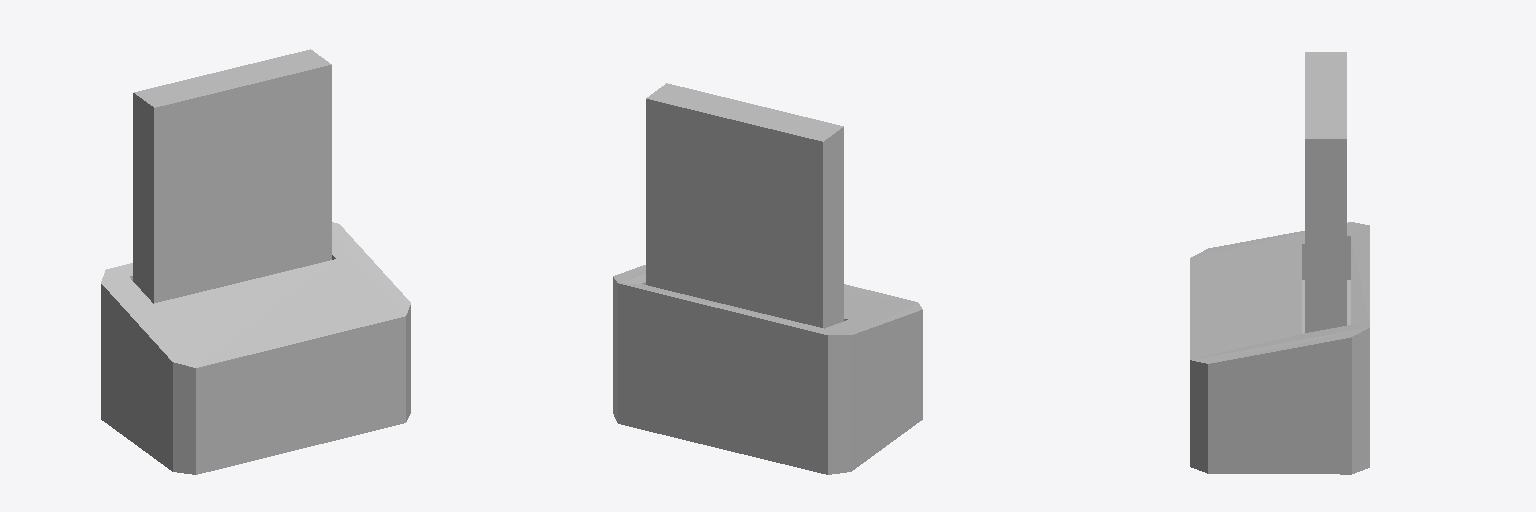
File: hardDrive.obj
3 renders of one model, left to right at view 1: azimuth 30°, elevation 25°; view 2: azimuth 150°, elevation 25°; view 3: azimuth 270°, elevation 25°, orthographic.
Parts seen in each view (by area): view 1: Cube, Cube.001; view 2: Cube, Cube.001; view 3: Cube, Cube.001.
Part boxes in pixels (x1,y1,x2,y2): Cube: (101, 222, 410, 474); Cube.001: (133, 49, 331, 303); Cube: (613, 265, 922, 474); Cube.001: (646, 83, 843, 328); Cube: (1190, 222, 1369, 474); Cube.001: (1305, 52, 1346, 332).
Size of the model in its own units: 0.1195 by 0.1536 by 0.0782.